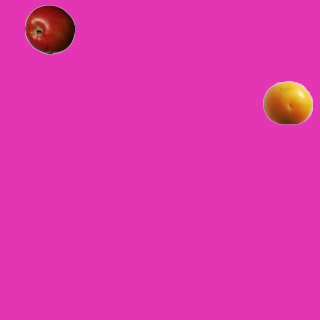Apple Braeburn: (24, 4, 74, 54)
Cherry Wax Yellow: (262, 77, 312, 127)
